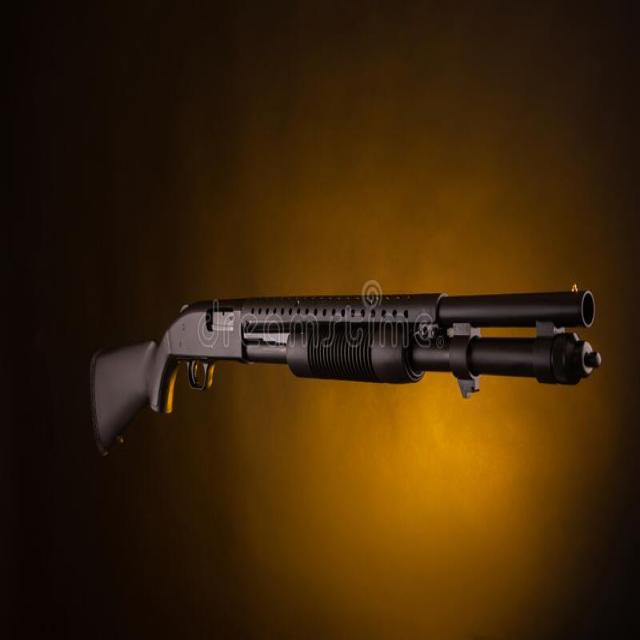ShotGun: (89, 281, 602, 456)
